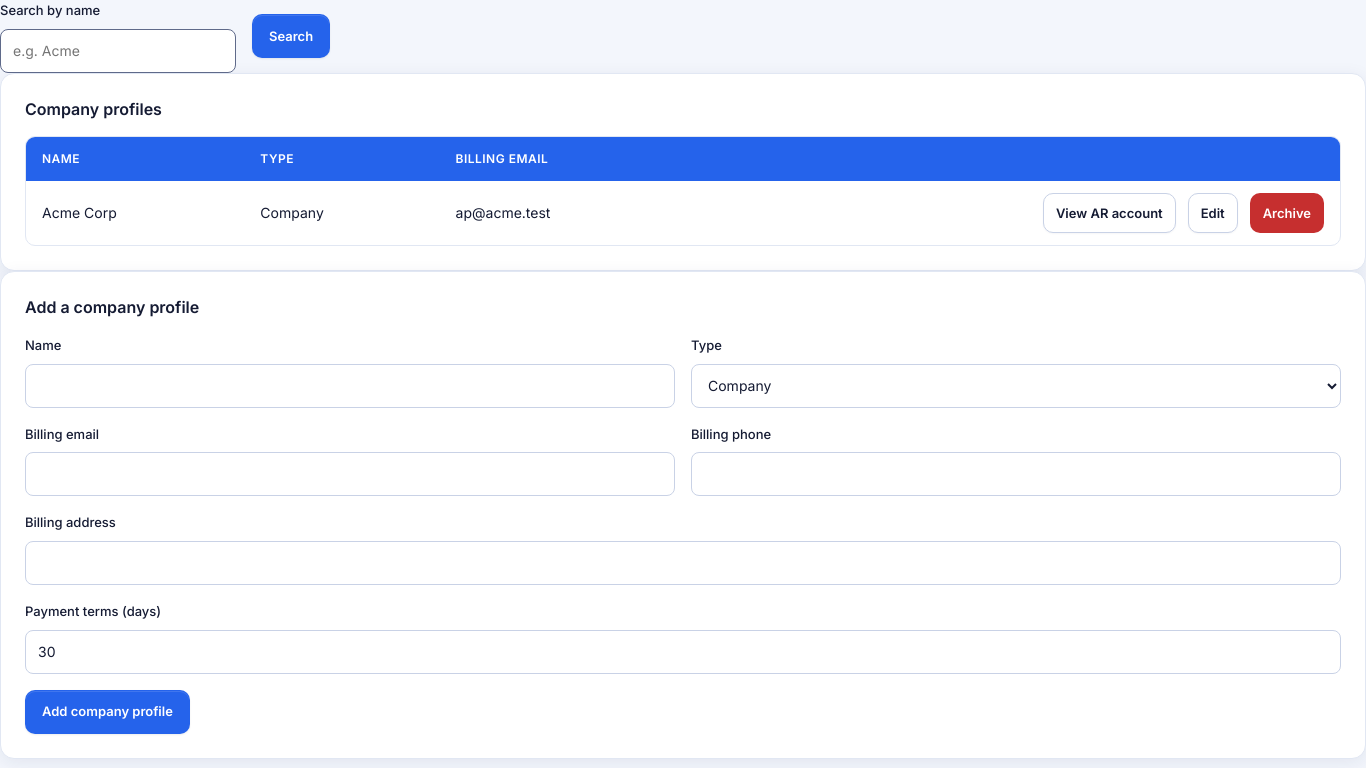
Test: <CompanyProfilesTab> › shows a real "no account yet" message when the company has no AR account at this property
Expected: the text "Acme Corp" is shown, [26,181,244,245]
Click the button "View AR account": (1109, 213) [1043,193,1176,233]
(page scrolled)
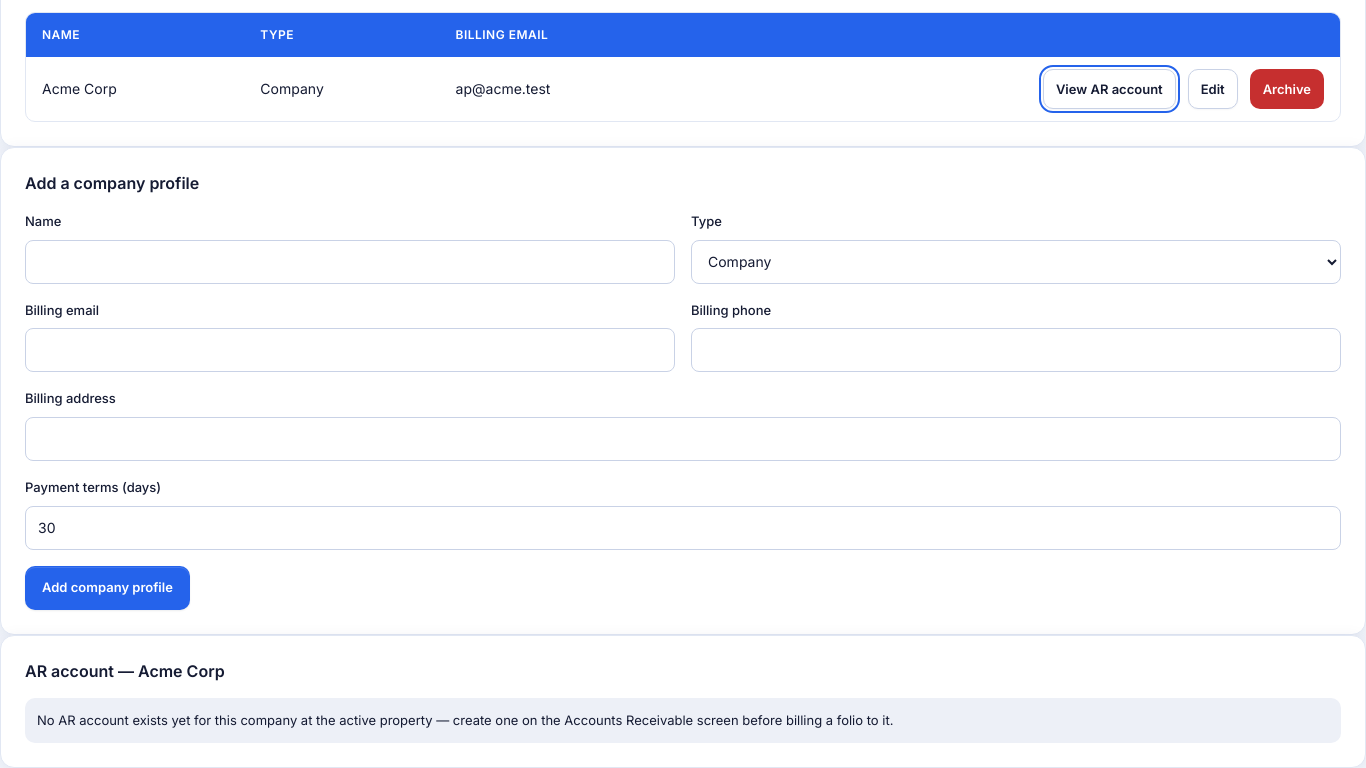
Now the text "No AR account exists yet" is shown, box [37,712,894,728]
